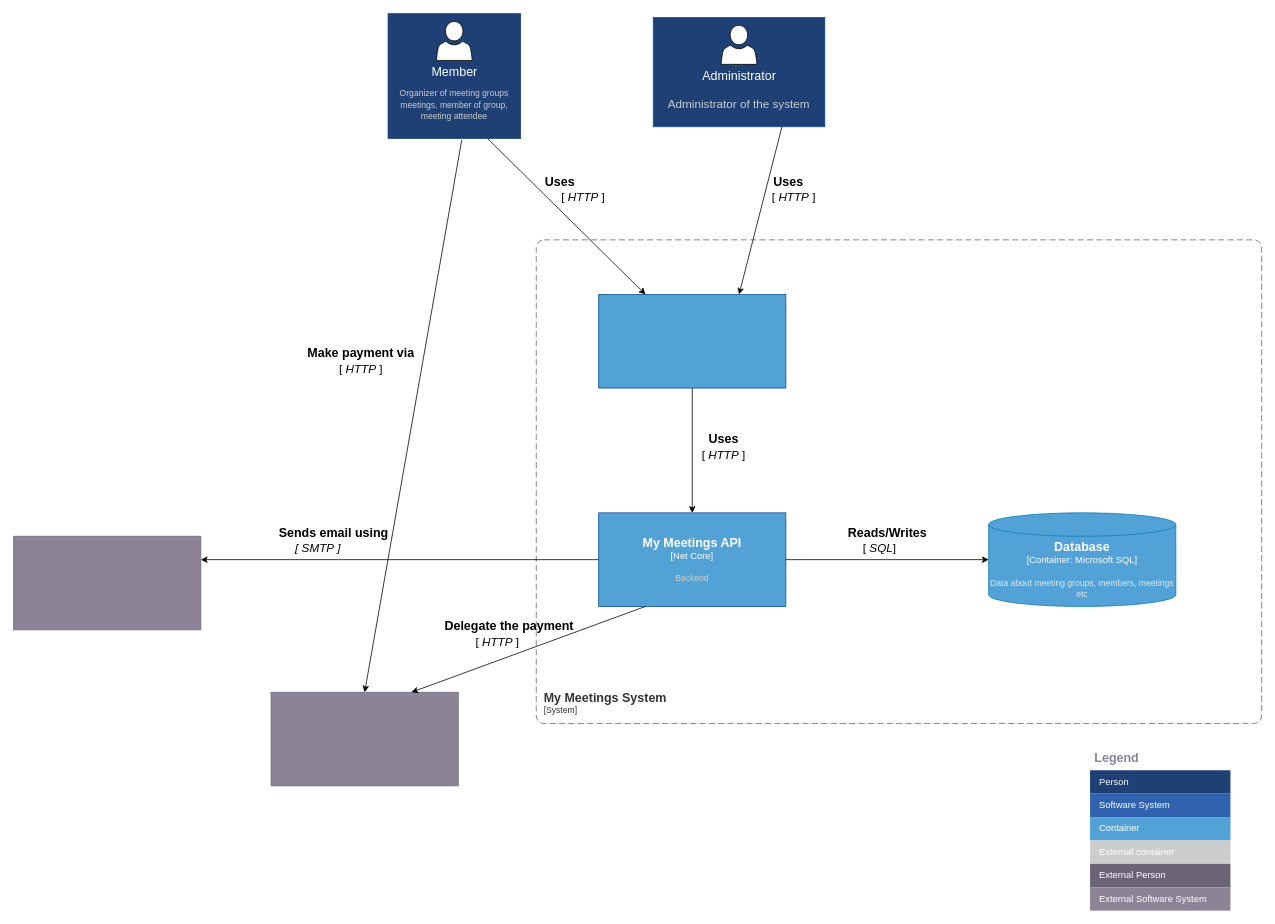
This 1275x924 diagram has some shape labels left out. Each missing label, with the centre of its shape:
"Email System [Software System] 3rd party SMTP server" belongs at (107,582).
"Payment Gateway [Software System] 3rd party payment server" belongs at (364,738).
"SPA [ReactJS] GUI for the application" belongs at (692,341).
